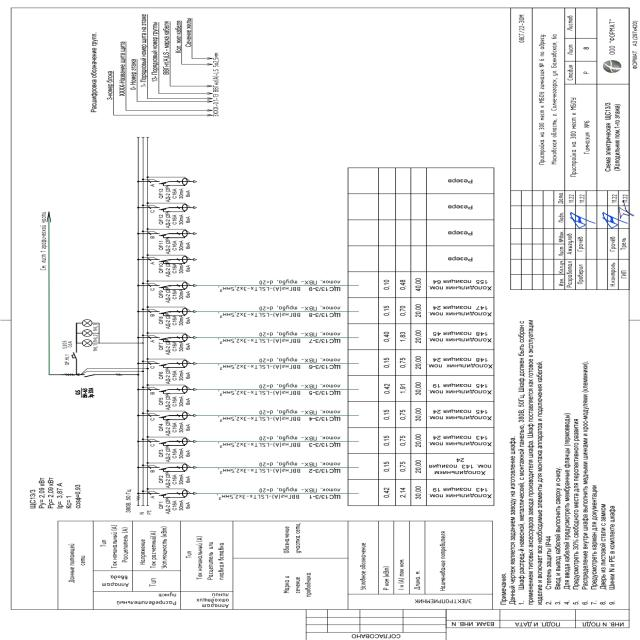-: (164, 367, 192, 385), (164, 337, 192, 355), (165, 444, 192, 462), (164, 392, 191, 410), (164, 419, 190, 437), (165, 471, 191, 489), (165, 496, 191, 514), (165, 260, 191, 278), (166, 311, 192, 329), (166, 238, 192, 255), (165, 186, 191, 203), (165, 286, 190, 303), (165, 212, 191, 228), (28, 488, 39, 510), (82, 386, 95, 398), (62, 340, 72, 350)
HL: (82, 319, 93, 327), (82, 339, 93, 347), (82, 329, 93, 337)
QF: (71, 351, 78, 360)
QFD: (157, 438, 189, 448), (156, 410, 188, 420), (157, 230, 189, 240), (156, 333, 188, 343), (157, 176, 189, 186), (156, 255, 188, 265), (156, 280, 188, 290), (157, 307, 189, 317), (157, 203, 189, 213), (157, 489, 188, 499), (156, 462, 187, 472), (157, 385, 188, 395), (157, 359, 188, 369)
QS: (82, 373, 96, 378)
